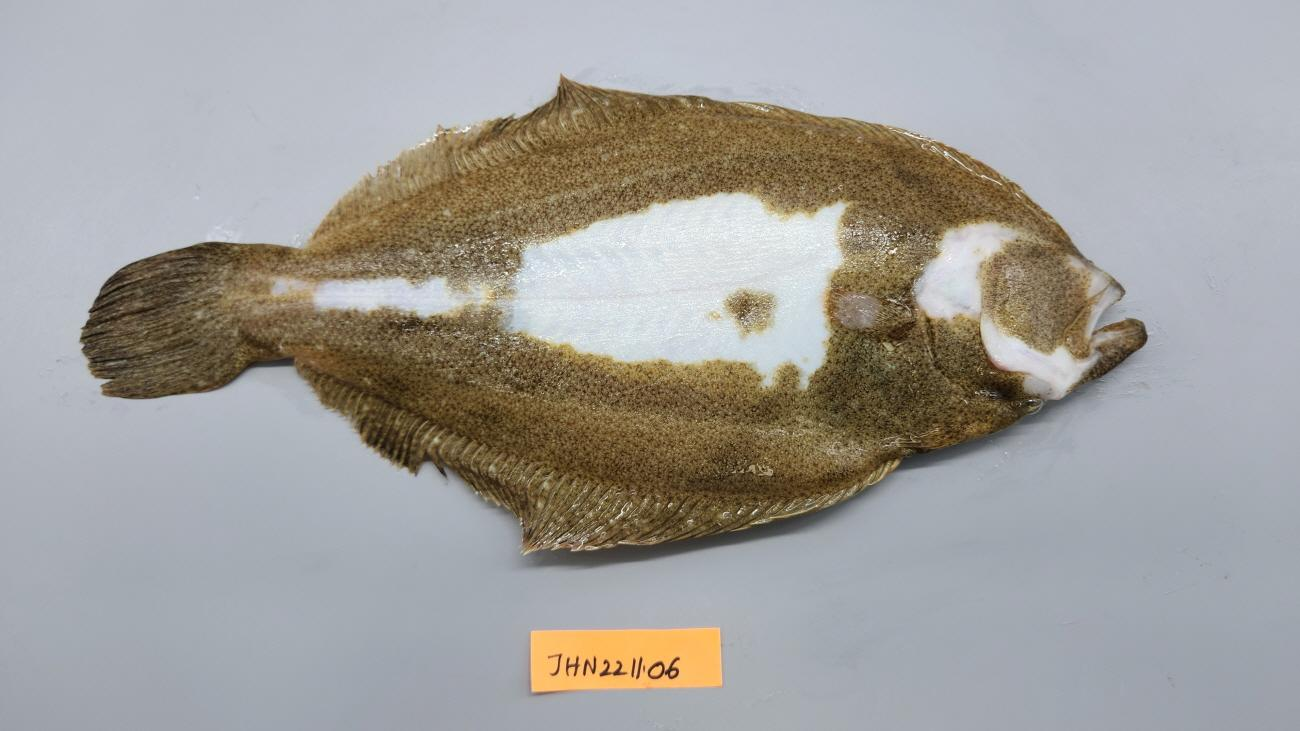POOUN: (78, 70, 1150, 559)
